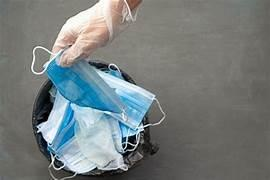Glove: (52, 0, 139, 66)
Mask: (31, 46, 123, 113), (97, 70, 165, 129), (71, 104, 125, 169), (37, 92, 68, 143)
